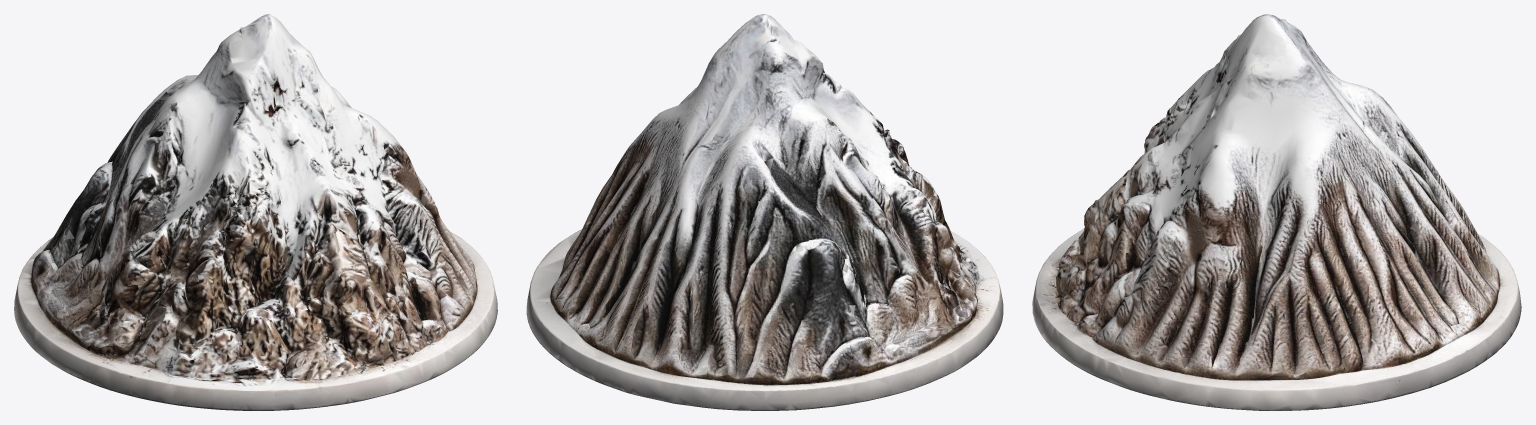
Rendered from mountain.glb.
3 renders of one model, left to right at view 1: azimuth 30°, elevation 25°; view 2: azimuth 150°, elevation 25°; view 3: azimuth 270°, elevation 25°, orthographic. The views are drawn at different scales.
Parts seen in each view (by area): view 1: mountain; view 2: mountain; view 3: mountain.
Boxes of the visible parts, bbox=[...] form: mountain: bbox=[14, 14, 497, 410]; mountain: bbox=[526, 14, 1003, 410]; mountain: bbox=[1032, 14, 1521, 410].
Bounding box in the file's own units: 0.9996 × 0.6699 × 1.
Materials: 1 (1 with a texture image).
